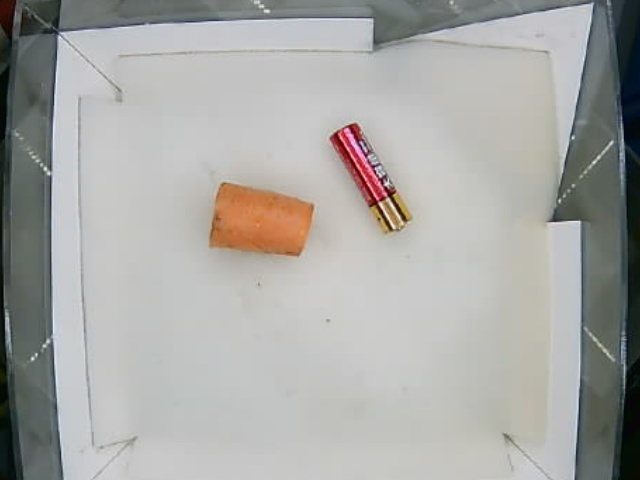Battery: (331, 124, 417, 235)
Carrot: (209, 180, 316, 258)
